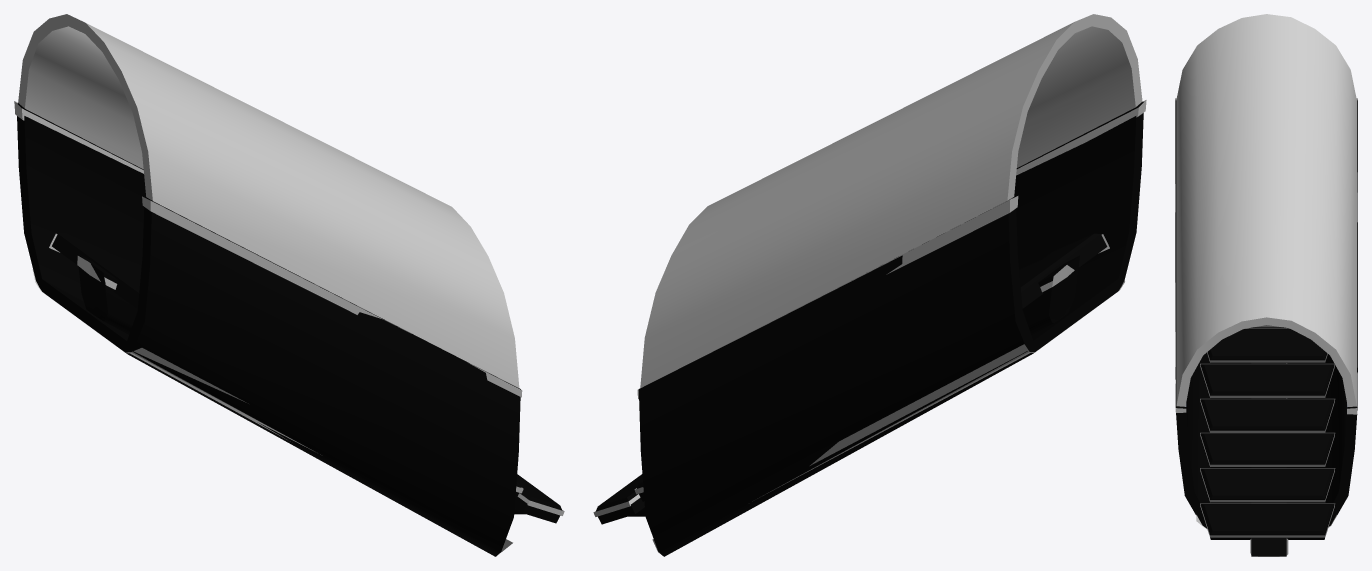
File: Rooms_Paradise_Stairs_Art.fbx
The picture shows the model from 3 angles, left to right: view 1: azimuth 30°, elevation 25°; view 2: azimuth 150°, elevation 25°; view 3: azimuth 270°, elevation 25°; orthographic projection. The views are drawn at different scales.
Parts seen in each view (by area): view 1: Rooms_Paradise_Stairs_Outliner, Rooms_Paradise_Stairs_Art, Rooms_Paradise_Stairs_Shadows; view 2: Rooms_Paradise_Stairs_Outliner, Rooms_Paradise_Stairs_Art, Rooms_Paradise_Stairs_Shadows; view 3: Rooms_Paradise_Stairs_Art, Rooms_Paradise_Stairs_Outliner, Rooms_Paradise_Stairs_Shadows.
Part boxes in pixels (<box>): Rooms_Paradise_Stairs_Outliner: <box>17,103,562,556</box>; Rooms_Paradise_Stairs_Art: <box>18,14,519,387</box>; Rooms_Paradise_Stairs_Shadows: <box>14,101,564,554</box>; Rooms_Paradise_Stairs_Outliner: <box>595,102,1143,556</box>; Rooms_Paradise_Stairs_Art: <box>640,14,1142,388</box>; Rooms_Paradise_Stairs_Shadows: <box>593,100,1146,554</box>; Rooms_Paradise_Stairs_Art: <box>1176,14,1357,407</box>; Rooms_Paradise_Stairs_Outliner: <box>1175,100,1357,556</box>; Rooms_Paradise_Stairs_Shadows: <box>1175,98,1357,556</box>.
Bounding box in the file's own units: 625 × 772 × 322.
